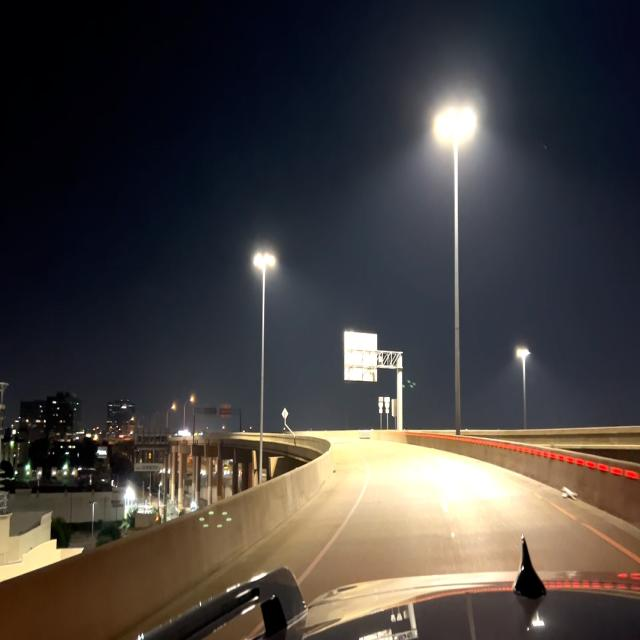back-of-sign: (345, 329, 379, 383)
